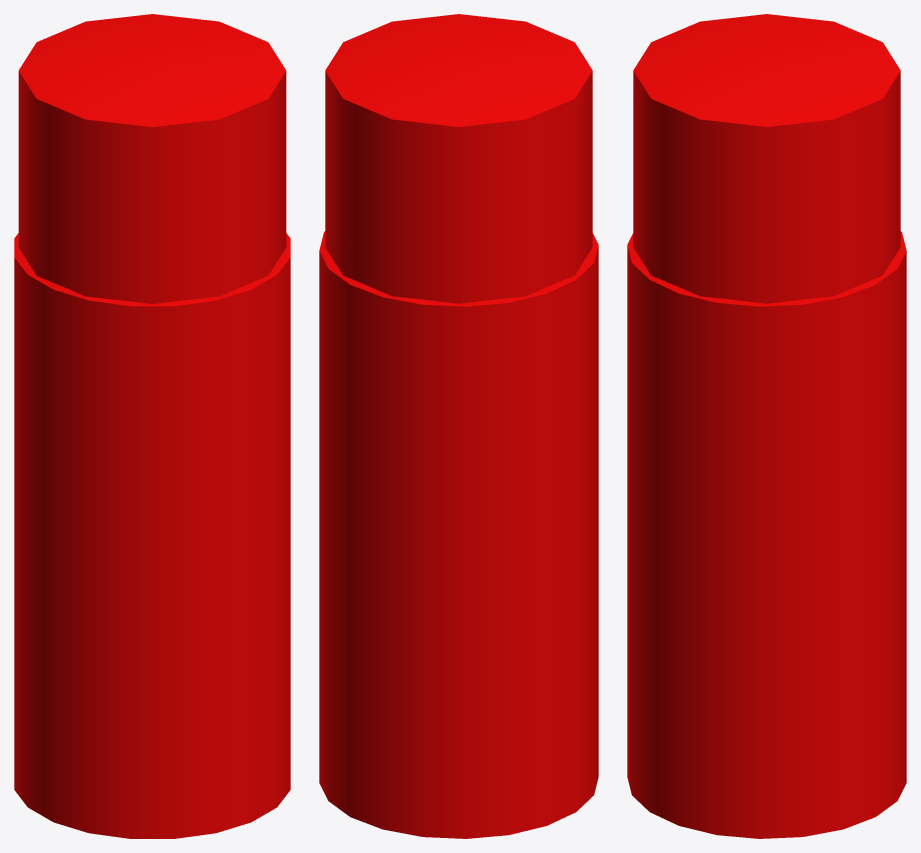
The model's file is SM_Spraycan_02a.FBX.
The picture shows the model from 3 angles, left to right: view 1: azimuth 30°, elevation 25°; view 2: azimuth 150°, elevation 25°; view 3: azimuth 270°, elevation 25°; orthographic projection.
Parts seen in each view (by area): view 1: SM_Spraycan_02a_LOD0; view 2: SM_Spraycan_02a_LOD0; view 3: SM_Spraycan_02a_LOD0.
Boxes of the visible parts, x1,y1,x2,y2 form: SM_Spraycan_02a_LOD0: [14, 14, 290, 838]; SM_Spraycan_02a_LOD0: [319, 14, 598, 838]; SM_Spraycan_02a_LOD0: [627, 14, 906, 838].
Size of what is drawn, in the model's own units: 7.28 by 20.69 by 7.28.
